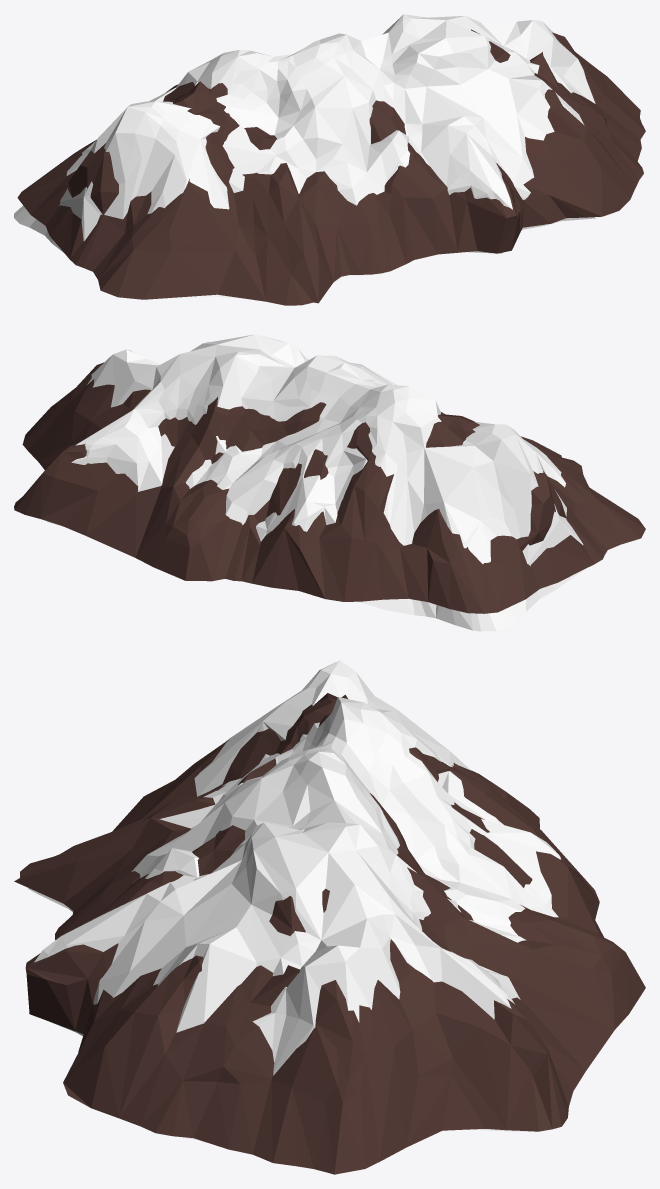
Rendered from snow_mountain_001.fbx.
3 views of the same model, one above another, from view 1: azimuth 30°, elevation 25°; view 2: azimuth 150°, elevation 25°; view 3: azimuth 270°, elevation 25° (orthographic). The views are drawn at different scales.
Visible parts, largest first — view 1: snow_mountain_001; view 2: snow_mountain_001; view 3: snow_mountain_001.
Part boxes in pixels (left/top/right/bottom): snow_mountain_001: left=14, top=14, right=645, bottom=305; snow_mountain_001: left=14, top=334, right=645, bottom=631; snow_mountain_001: left=14, top=660, right=645, bottom=1174.
Bounding box in the file's own units: 11997 × 8140 × 3296.
